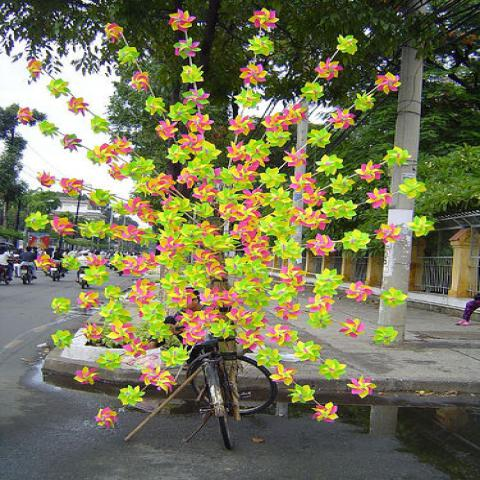motorcycle: (42, 259, 64, 282), (74, 265, 90, 289), (19, 265, 31, 284), (0, 264, 10, 285)
